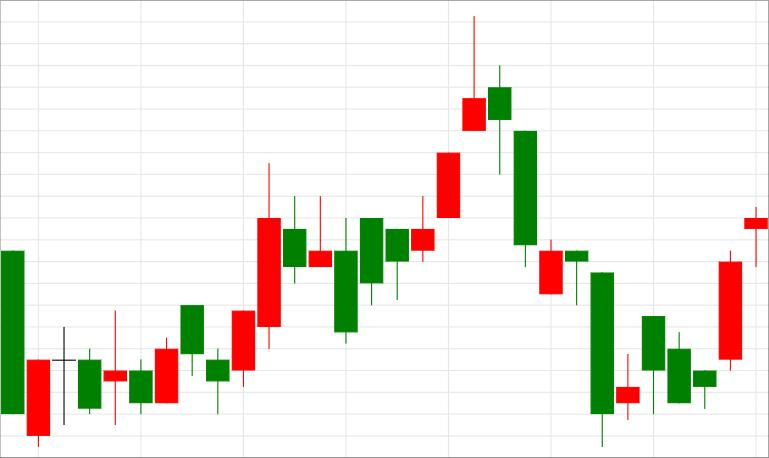shooting_star_fall: (232, 15, 485, 387)
